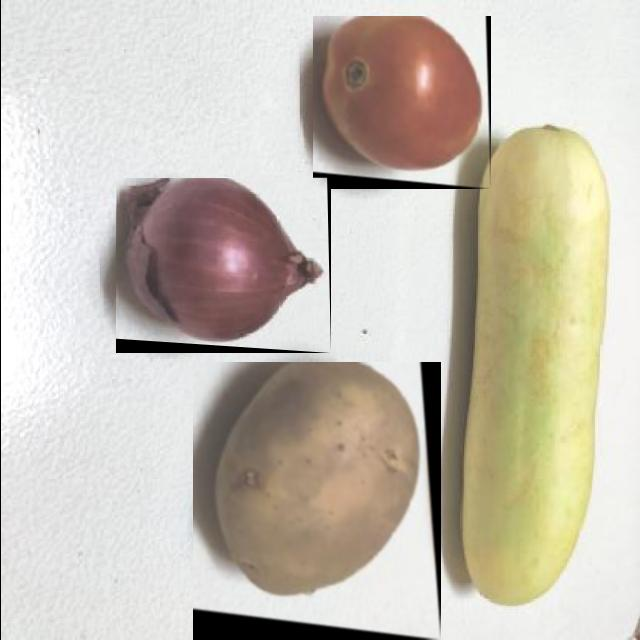onion: (115, 178, 330, 353)
potato: (192, 362, 440, 640)
tomato: (312, 16, 490, 189)
